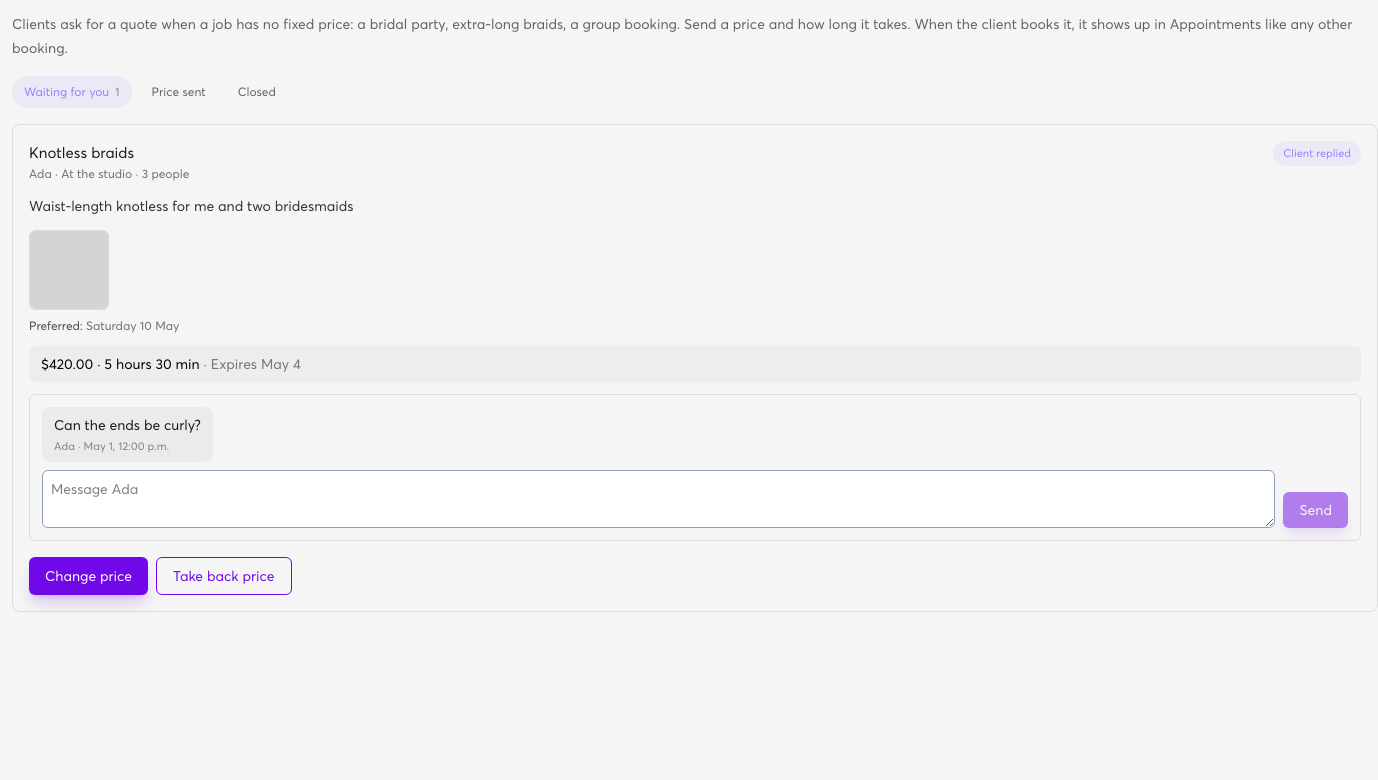
StylerQuotes › a client message moves the quote to Waiting, shows their photos, and can be answered
This screenshot has width=1378, height=780.
Expected: the text "Can the ends be curly?" is shown, [54,414,201,434]
Type "Yes, curly ends included" into the text box labelled "Message" at (659,499), box [42,470,1275,528]
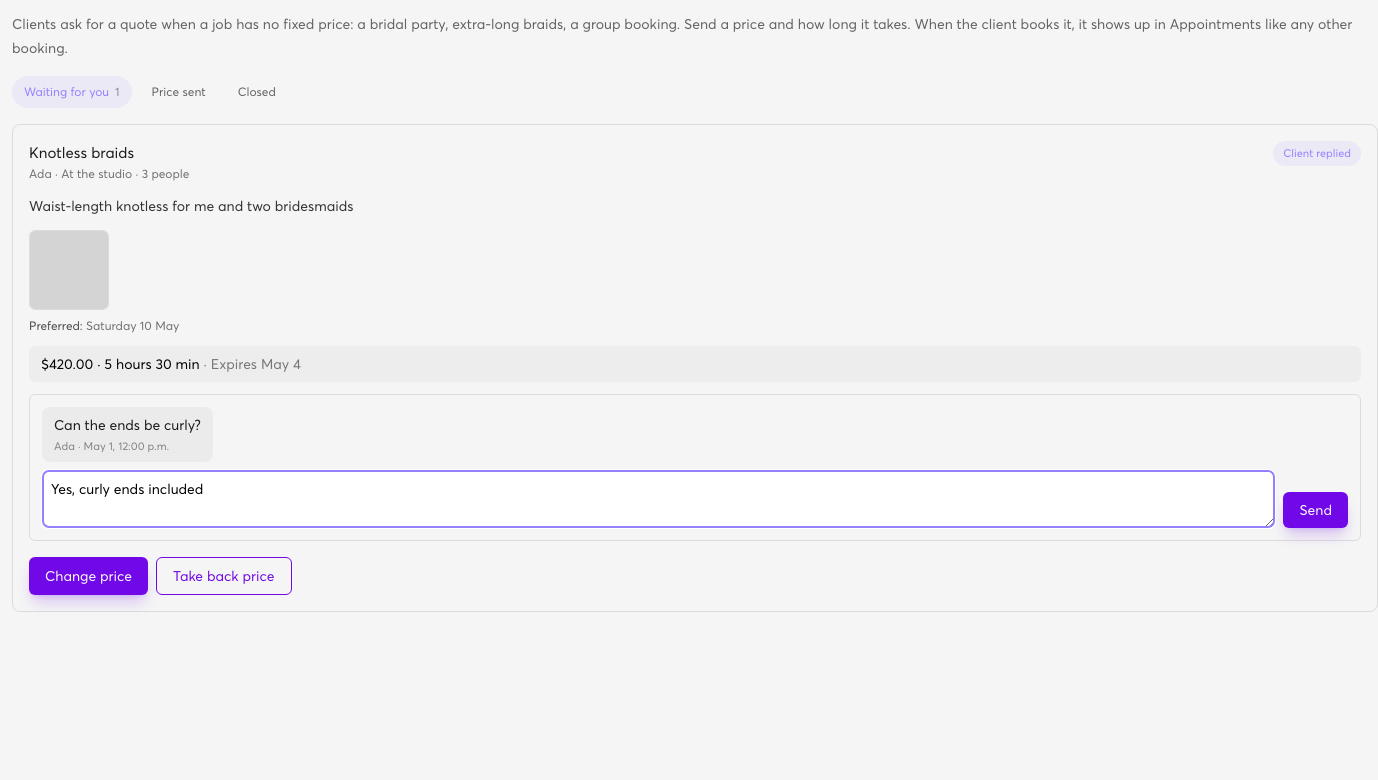
Click the button "Send" at (1316,510), box [1283,492,1348,528]
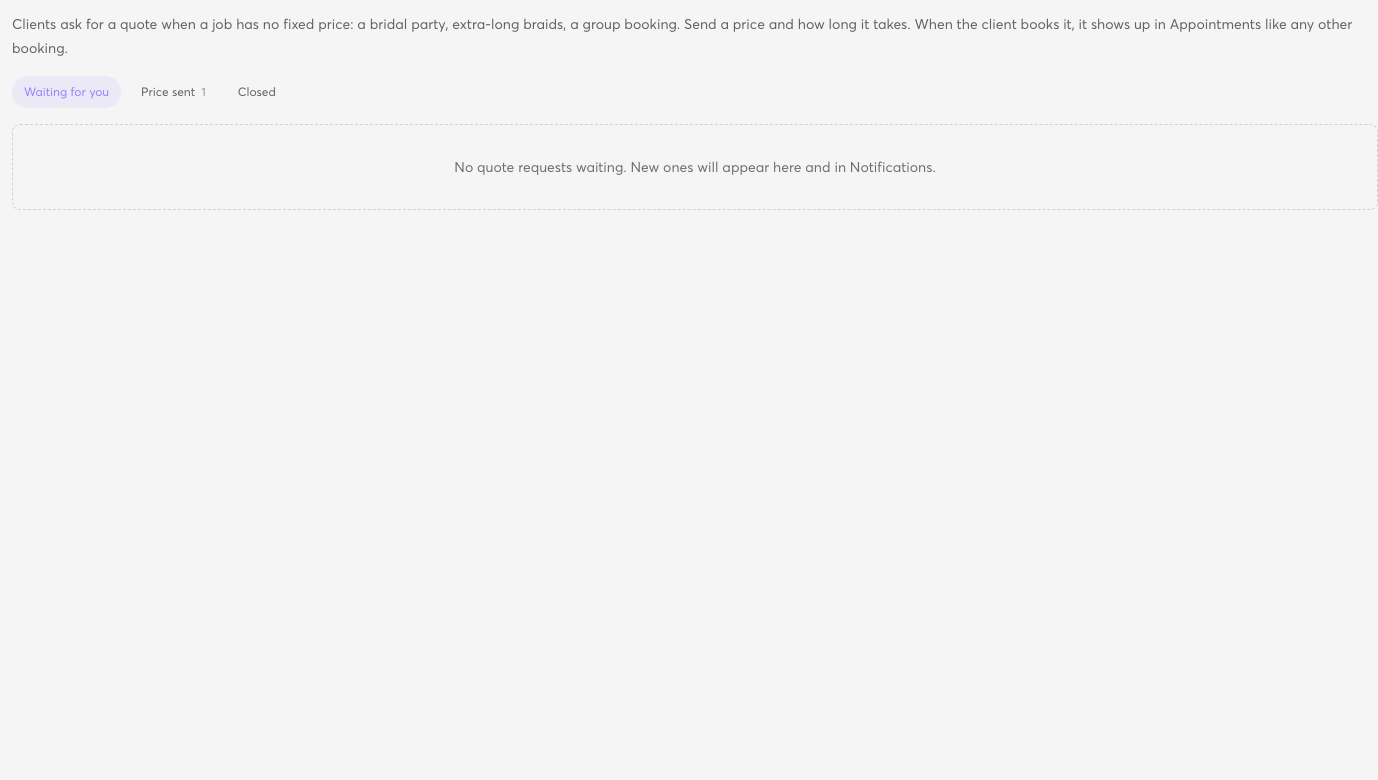
Result: the text "No quote requests waiting" is shown at [454,158,936,175]
